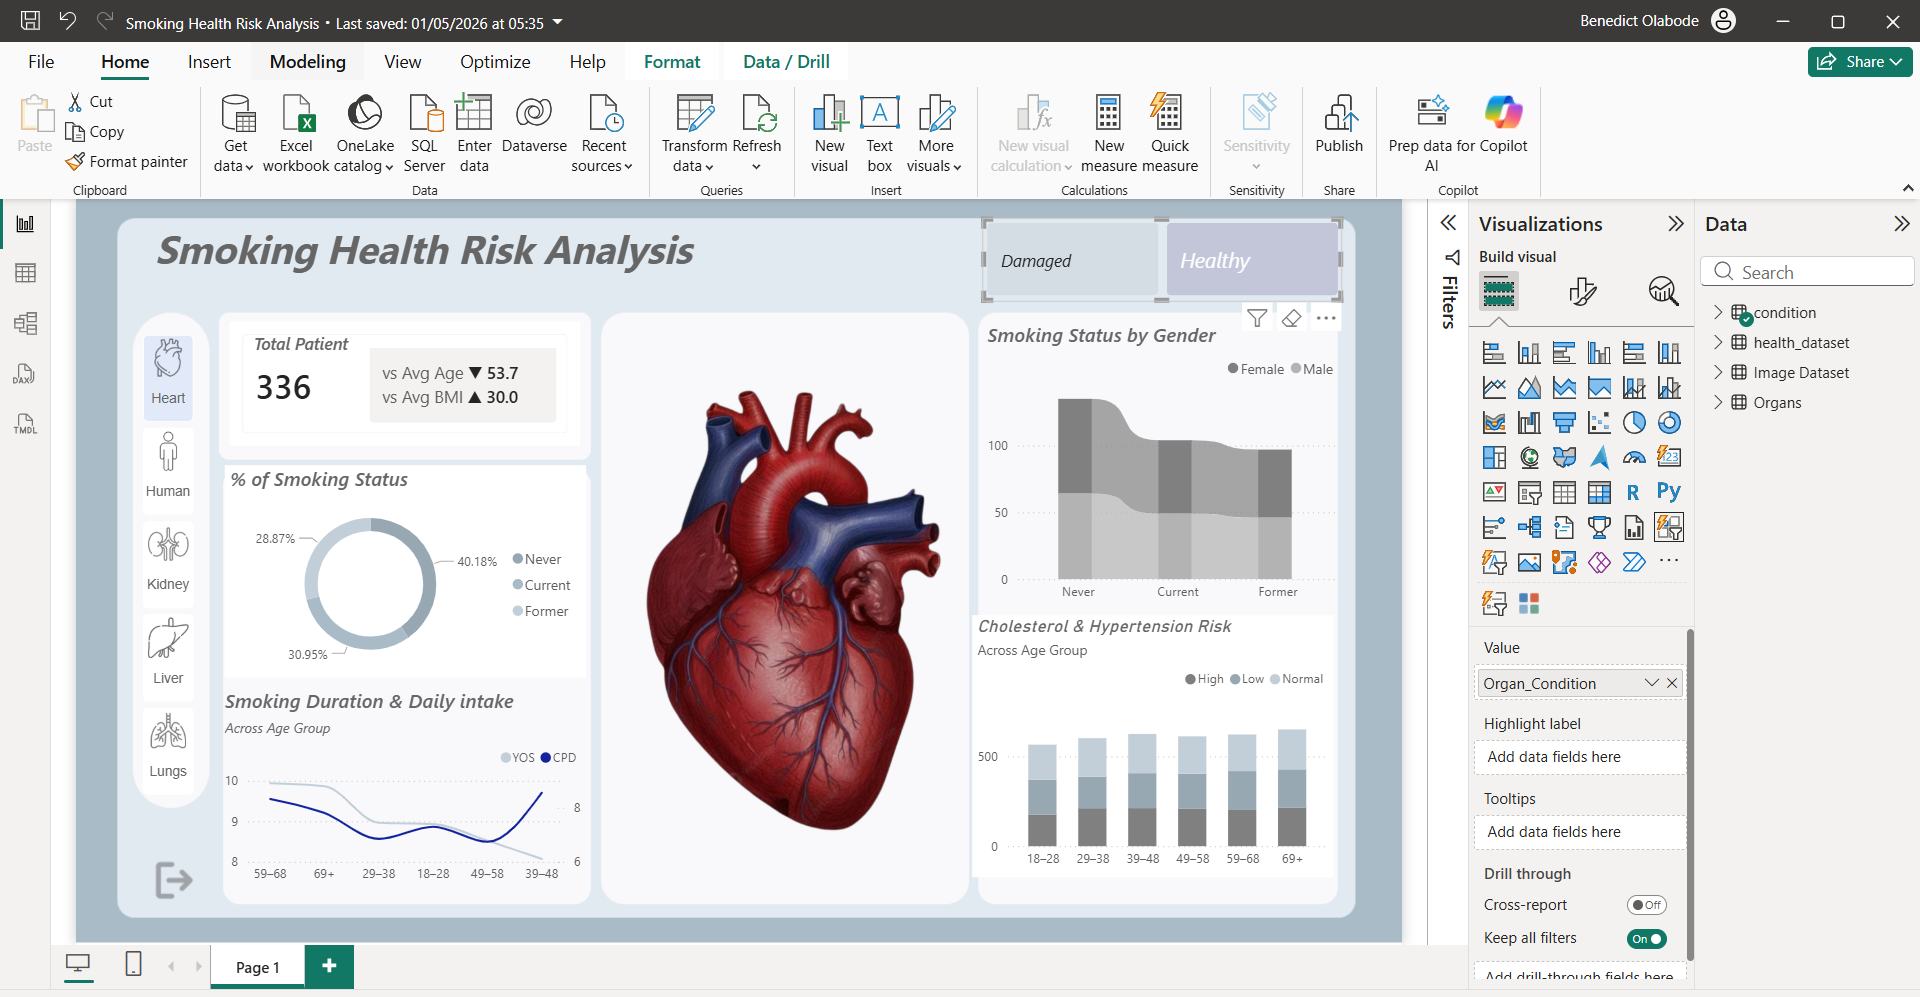

Layout of this report page (visuals, bound fields, positions):
{"tool":"powerbi","page":{"name":"Page 1","canvas":[1280,720],"ordinal":0},"visuals":[{"type":"cardVisual","fields":{"Data":["CountNonNull(health_dataset.Patient_ID)"]},"box":[144.1,113.9,348.5,130.4],"z":0},{"type":"textbox","box":[166,123.5,199,41.2],"z":1000},{"type":"advancedSlicerVisual","fields":{"Values":["condition.Organ_Condition"]},"box":[874.1,17.8,348.5,81],"z":2000},{"type":"ChicletSlicer1448559807354","fields":{"Category":["Organs.Organ"],"Image":["Organs.Icon_URL"]},"box":[56.3,123.5,109.8,496.7],"z":3000},{"type":"image","box":[516.4,119.4,348.7,556.2],"z":4000},{"type":"donutChart","title":"% of Smoking Status","fields":{"Category":["health_dataset.Smoking_Status"],"Y":["CountNonNull(health_dataset.Smoking_Status)"]},"box":[144.1,256.6,348.5,204.5],"z":5000},{"type":"lineChart","title":"Smoking Duration & Daily intake","fields":{"Category":["health_dataset.Age Group"],"Y":["Avg(health_dataset.Years_of_Smoking)"],"Y2":["Avg(health_dataset.Cigarettes_Per_Day)"]},"box":[138.6,472,354,197.6],"z":6000},{"type":"ribbonChart","title":"Smoking Status by Gender","fields":{"Category":["health_dataset.Smoking_Status"],"Y":["CountNonNull(health_dataset.Patient_ID)"],"Series":["health_dataset.Gender"]},"box":[874.1,118,348.5,278.6],"z":7000},{"type":"columnChart","title":"Cholesterol & Hypertension Risk ","fields":{"Category":["health_dataset.Age Group"],"Y":["Avg(health_dataset.Cholesterol_Level)"],"Series":["health_dataset.BP_Risk"]},"box":[864.5,402.1,348.5,252.5],"z":8000},{"type":"textbox","box":[71.4,17.8,551.6,74.1],"z":9000}]}

Visuals, with their boxes on the page's 1280x720 design canvas (x1, y1, x2, y2). These are canvas units, not pixel positions in the 1920x997 screenshot, which may show the page scaled, cropped or inside an application window:
cardVisual - CountNonNull(health_dataset.Patient_ID): (left=144, top=114, right=493, bottom=244)
textbox: (left=166, top=124, right=365, bottom=165)
advancedSlicerVisual - condition.Organ_Condition: (left=874, top=18, right=1223, bottom=99)
ChicletSlicer1448559807354 - Organs.Organ x Organs.Icon_URL: (left=56, top=124, right=166, bottom=620)
image: (left=516, top=119, right=865, bottom=676)
"% of Smoking Status" donutChart: (left=144, top=257, right=493, bottom=461)
"Smoking Duration & Daily intake" lineChart: (left=139, top=472, right=493, bottom=670)
"Smoking Status by Gender" ribbonChart: (left=874, top=118, right=1223, bottom=397)
"Cholesterol & Hypertension Risk " columnChart: (left=864, top=402, right=1213, bottom=655)
textbox: (left=71, top=18, right=623, bottom=92)
